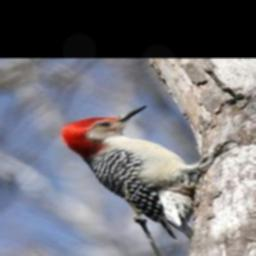Woodpecker: (53, 102, 250, 245)
